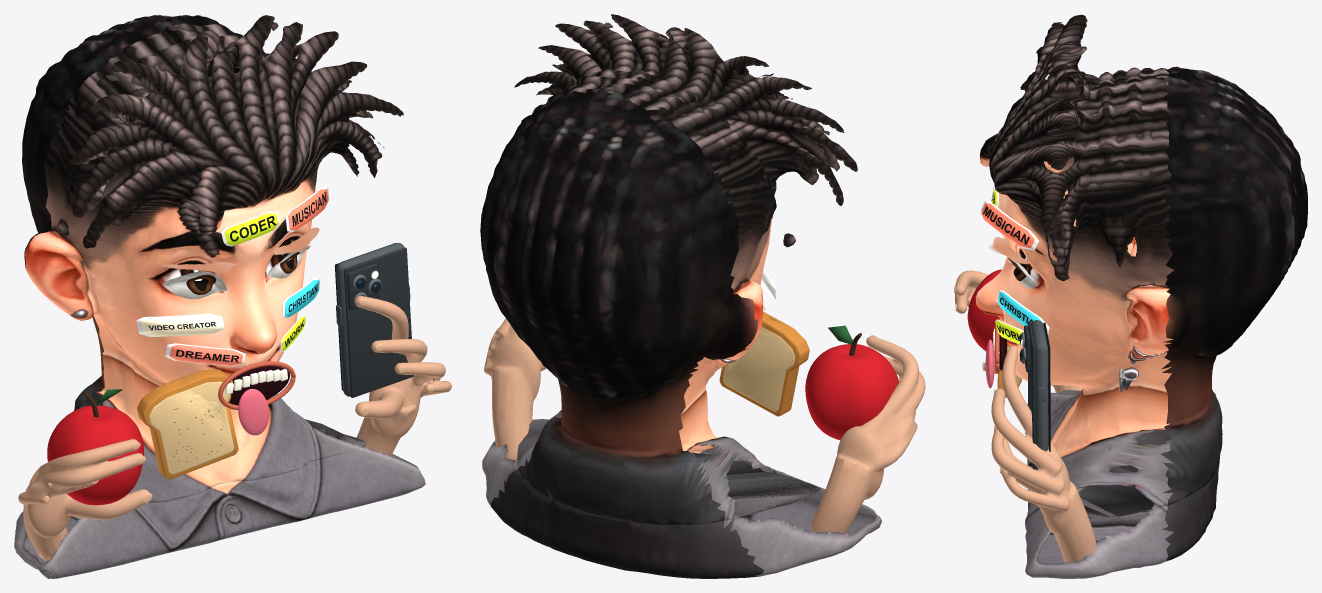
Rendered from avatar-v4.glb.
The picture shows the model from 3 angles, left to right: view 1: azimuth 30°, elevation 25°; view 2: azimuth 150°, elevation 25°; view 3: azimuth 270°, elevation 25°; orthographic projection. The views are drawn at different scales.
Visible parts, largest first — view 1: Head, Torso, HandLeftSkin, HandRightSkin, PhoneBack, AppleBody, BreadBittenCrumb, BreadWholeCrumb, BreadBittenCrust, PhoneFrame, LabelVideoPaper, BreadWholeCrust (+10 smaller); view 2: Head, Torso, HandLeftSkin, AppleBody, HandRightSkin, BreadBittenCrumb, BreadBittenCrust, BreadWholeCrumb, BreadWholeCrust; view 3: Head, Torso, HandRightSkin, PhoneFrame, AppleBody, HandLeftSkin, LabelMusicianPaper, PhoneBack, LabelChristianPaper.
Boxes of the visible parts, <box> form: Head: <box>22,14,403,502</box>; Torso: <box>14,420,425,578</box>; HandLeftSkin: <box>18,439,149,560</box>; HandRightSkin: <box>355,295,451,455</box>; PhoneBack: <box>343,247,413,397</box>; AppleBody: <box>47,405,143,505</box>; BreadBittenCrumb: <box>149,389,234,474</box>; BreadWholeCrumb: <box>150,381,233,473</box>; BreadBittenCrust: <box>137,378,238,479</box>; PhoneFrame: <box>336,242,404,396</box>; LabelVideoPaper: <box>141,315,221,336</box>; BreadWholeCrust: <box>137,369,238,478</box>; Head: <box>480,14,857,524</box>; Torso: <box>482,419,881,578</box>; HandLeftSkin: <box>810,336,925,533</box>; AppleBody: <box>805,344,898,439</box>; HandRightSkin: <box>484,318,546,460</box>; BreadBittenCrumb: <box>723,327,795,411</box>; BreadBittenCrust: <box>719,316,809,416</box>; BreadWholeCrumb: <box>723,330,794,411</box>; BreadWholeCrust: <box>719,311,808,416</box>; Head: <box>975,14,1307,518</box>; Torso: <box>1025,390,1219,578</box>; HandRightSkin: <box>991,345,1095,562</box>; PhoneFrame: <box>1031,320,1048,469</box>; AppleBody: <box>967,269,1001,356</box>; HandLeftSkin: <box>955,270,1083,393</box>; LabelMusicianPaper: <box>981,203,1034,248</box>; PhoneBack: <box>1027,321,1035,469</box>; LabelChristianPaper: <box>997,292,1043,325</box>.
Bounding box in the file's own units: 2.73 × 3.1 × 2.14.
Materials: 37 (3 with a texture image).
